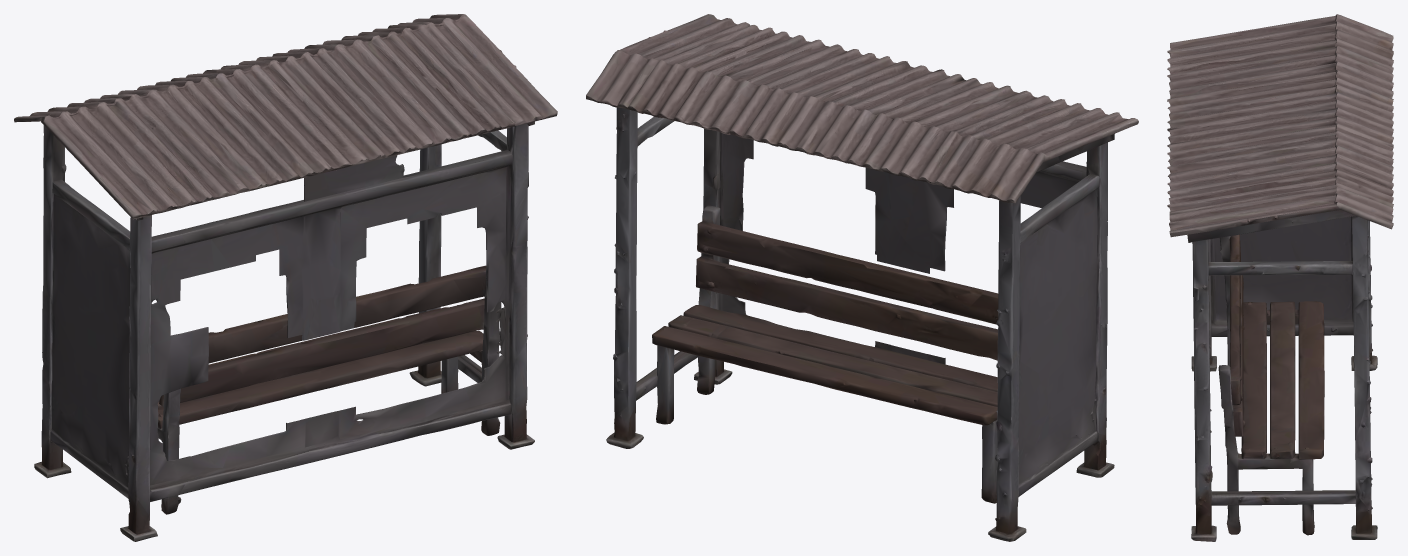
Rendered from ext_bus_stop_b_idle.glb.
The picture shows the model from 3 angles, left to right: view 1: azimuth 30°, elevation 25°; view 2: azimuth 150°, elevation 25°; view 3: azimuth 270°, elevation 25°; orthographic projection. The views are drawn at different scales.
Visible parts, largest first — view 1: tripo_node_0515d6e0-b0dd-434a-a9a6-46fdc1491c31; view 2: tripo_node_0515d6e0-b0dd-434a-a9a6-46fdc1491c31; view 3: tripo_node_0515d6e0-b0dd-434a-a9a6-46fdc1491c31.
Boxes of the visible parts, <box> form: tripo_node_0515d6e0-b0dd-434a-a9a6-46fdc1491c31: <box>14,14,557,541</box>; tripo_node_0515d6e0-b0dd-434a-a9a6-46fdc1491c31: <box>586,14,1138,541</box>; tripo_node_0515d6e0-b0dd-434a-a9a6-46fdc1491c31: <box>1167,14,1393,541</box>.
Bounding box in the file's own units: 3.11 × 2.6 × 1.55.
Materials: 1 (1 with a texture image).
